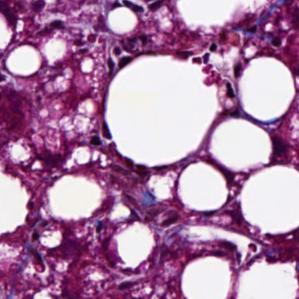inflammation: (193, 42, 240, 102), (103, 40, 137, 78), (113, 266, 151, 294)
